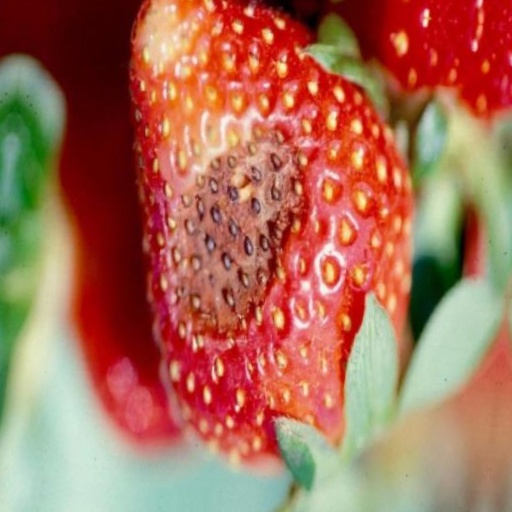Anthracnose Fruit Rot: (155, 168, 314, 394)
